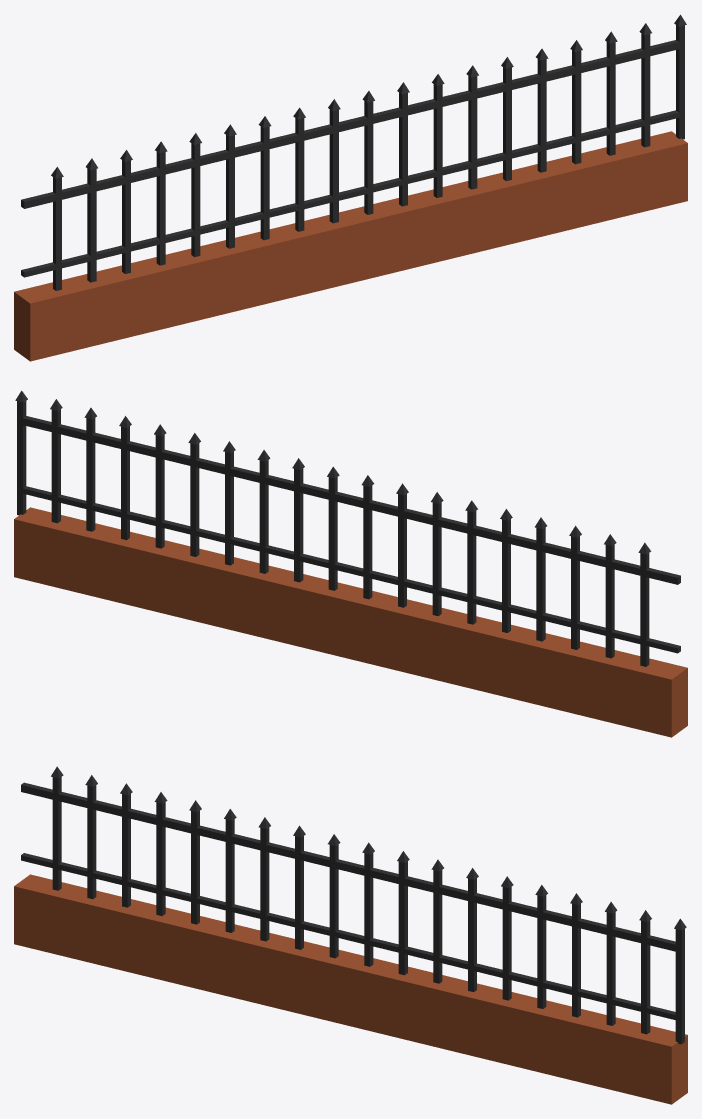
Rendered from pagar.fbx.
3 renders of one model, top to bottom at view 1: azimuth 30°, elevation 25°; view 2: azimuth 150°, elevation 25°; view 3: azimuth 330°, elevation 25°, orthographic.
Parts seen in each view (by area): view 1: Cube.056; view 2: Cube.056; view 3: Cube.056.
Boxes of the visible parts, box(x1,y1,x2,y2) form: Cube.056: box(14, 14, 687, 361); Cube.056: box(14, 390, 687, 737); Cube.056: box(14, 766, 687, 1104).
Bounding box in the file's own units: 1214 × 316 × 51.6.
